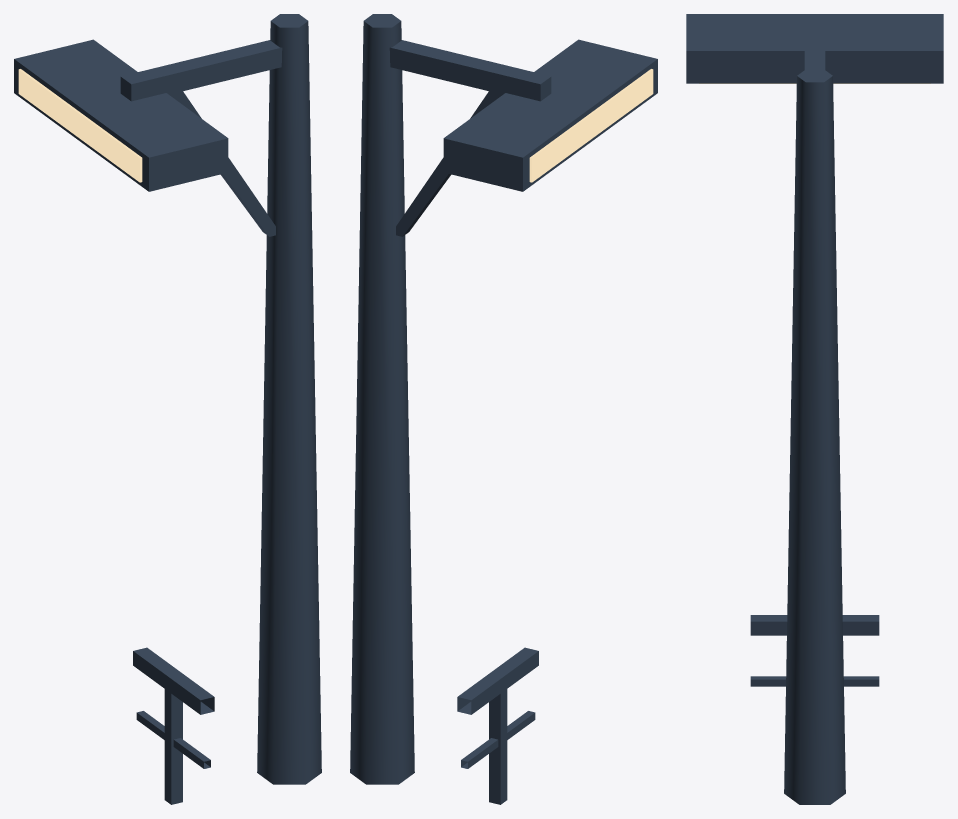
Rendered from AF_Crest.glb.
3 renders of one model, left to right at view 1: azimuth 30°, elevation 25°; view 2: azimuth 150°, elevation 25°; view 3: azimuth 270°, elevation 25°, orthographic. The views are drawn at different scales.
Parts seen in each view (by area): view 1: AF_Crest__mast, AF_Crest__mast_lamp, AF_Crest__rail, AF_Crest__post; view 2: AF_Crest__mast, AF_Crest__mast_lamp, AF_Crest__rail, AF_Crest__post; view 3: AF_Crest__mast, AF_Crest__rail.
Boxes of the visible parts, box(x1,y1,x2,y2) form: AF_Crest__mast: box(14, 14, 321, 784); AF_Crest__mast_lamp: box(18, 69, 142, 182); AF_Crest__rail: box(133, 647, 214, 768); AF_Crest__post: box(164, 689, 182, 804); AF_Crest__mast: box(350, 14, 657, 784); AF_Crest__mast_lamp: box(529, 69, 653, 182); AF_Crest__rail: box(457, 647, 538, 768); AF_Crest__post: box(489, 689, 507, 804); AF_Crest__mast: box(686, 14, 943, 804); AF_Crest__rail: box(750, 615, 879, 686).
Size of the model in its own units: 2.01 by 6.15 by 2.
